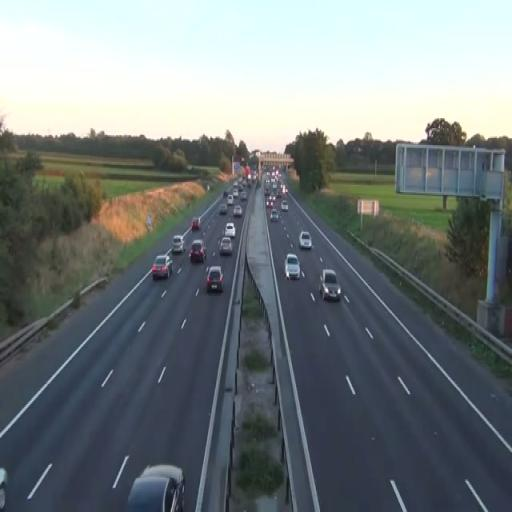Car: (127, 462, 186, 512), (319, 269, 341, 301), (151, 254, 173, 279), (206, 266, 224, 293), (284, 253, 301, 280), (189, 240, 207, 264), (0, 467, 8, 510), (219, 236, 232, 256), (299, 230, 312, 250), (172, 234, 185, 254), (225, 222, 236, 239), (233, 204, 243, 218), (270, 208, 280, 222)
